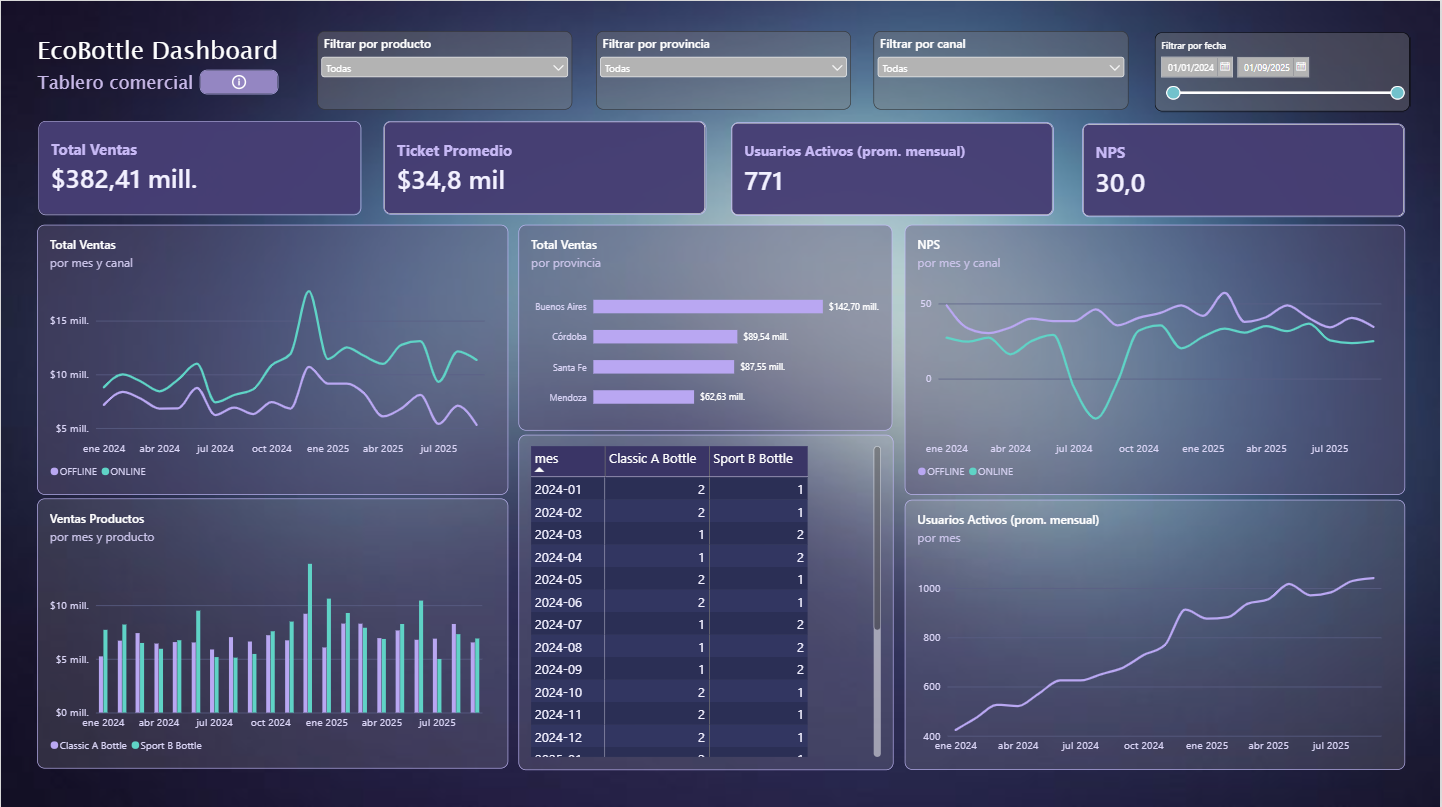

Layout of this report page (visuals, bound fields, positions):
{"tool":"powerbi","page":{"name":"Página 1","canvas":[1920,1080],"ordinal":0},"visuals":[{"type":"textbox","box":[48.3,41.7,360,105],"z":0},{"type":"cardVisual","fields":{"Data":["mart_ventas.Total Ventas"]},"box":[49.2,160.5,430,125.8],"z":2000},{"type":"cardVisual","fields":{"Data":["mart_ventas.Ticket Promedio"]},"box":[510.6,160.5,430,125],"z":3000},{"type":"cardVisual","fields":{"Data":["mart_usuarios.Usuarios Activos (prom. mensual)"]},"box":[973.3,161.7,430,125],"z":4000},{"type":"cardVisual","fields":{"Data":["mart_nps.NPS"]},"box":[1441.4,162.9,430,125],"z":5000},{"type":"lineChart","fields":{"Category":["filtro_mes.mes"],"Series":["filtro_canal.canal"],"Y":["mart_ventas.Total Ventas"]},"box":[48,298,628,360],"z":6000},{"type":"clusteredBarChart","fields":{"Category":["filtro_provincia.provincia"],"Y":["mart_ventas.Total Ventas"]},"box":[690,298,498,274],"z":7000},{"type":"clusteredColumnChart","fields":{"Category":["filtro_mes.mes"],"Series":["filtro_producto.producto"],"Y":["mart_productos.Ventas Productos"]},"box":[48,664,628,360],"z":8000},{"type":"lineChart","fields":{"Category":["filtro_mes.mes"],"Series":["filtro_canal.canal"],"Y":["mart_nps.NPS"]},"box":[1204.3,298.6,667,360],"z":9000},{"type":"lineChart","fields":{"Category":["filtro_mes.mes"],"Y":["mart_usuarios.Usuarios Activos (prom. mensual)"]},"box":[1204.3,664.3,667.1,360],"z":10000},{"type":"pivotTable","fields":{"Columns":["filtro_producto.producto"],"Rows":["filtro_mes.mes"],"Values":["mart_productos.Ranking Producto"]},"box":[690,578,500,447],"z":12000},{"type":"slicer","fields":{"Values":["filtro_producto.producto"]},"box":[421.7,40,340,105],"z":14000},{"type":"slicer","fields":{"Values":["filtro_mes.mes"]},"box":[1538,41,340,105.7],"z":15000},{"type":"slicer","fields":{"Values":["filtro_provincia.provincia"]},"box":[793,40,340,105],"z":15001},{"type":"slicer","fields":{"Values":["filtro_canal.canal"]},"box":[1163,40,340,105],"z":15002},{"type":"actionButton","box":[264.6,92.3,104.6,33.1],"z":15003}]}

Visuals, with their boxes in screenshot pixels (x1, y1, x2, y2), scaled from the page's 1920x1080 canvas onto the 1442x807 screenshot:
textbox: BBox(36, 31, 307, 110)
cardVisual - mart_ventas.Total Ventas: BBox(37, 120, 360, 214)
cardVisual - mart_ventas.Ticket Promedio: BBox(383, 120, 706, 213)
cardVisual - mart_usuarios.Usuarios Activos (prom. mensual): BBox(731, 121, 1054, 214)
cardVisual - mart_nps.NPS: BBox(1083, 122, 1405, 215)
lineChart - filtro_mes.mes x filtro_canal.canal: BBox(36, 223, 508, 492)
clusteredBarChart - filtro_provincia.provincia x mart_ventas.Total Ventas: BBox(518, 223, 892, 427)
clusteredColumnChart - filtro_mes.mes x filtro_producto.producto: BBox(36, 496, 508, 765)
lineChart - filtro_mes.mes x filtro_canal.canal: BBox(904, 223, 1405, 492)
lineChart - filtro_mes.mes x mart_usuarios.Usuarios Activos (prom. mensual): BBox(904, 496, 1405, 765)
pivotTable - filtro_producto.producto x filtro_mes.mes: BBox(518, 432, 894, 766)
slicer - filtro_producto.producto: BBox(317, 30, 572, 108)
slicer - filtro_mes.mes: BBox(1155, 31, 1410, 110)
slicer - filtro_provincia.provincia: BBox(596, 30, 851, 108)
slicer - filtro_canal.canal: BBox(873, 30, 1129, 108)
actionButton: BBox(199, 69, 277, 94)
